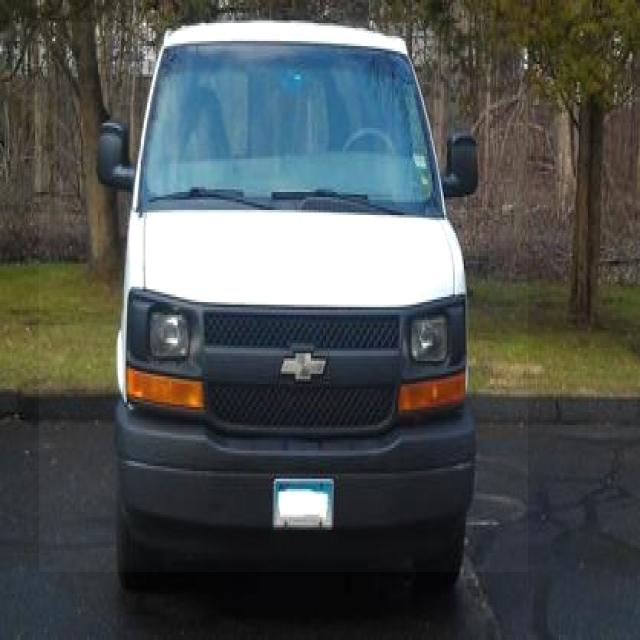Car: (39, 22, 528, 572)
